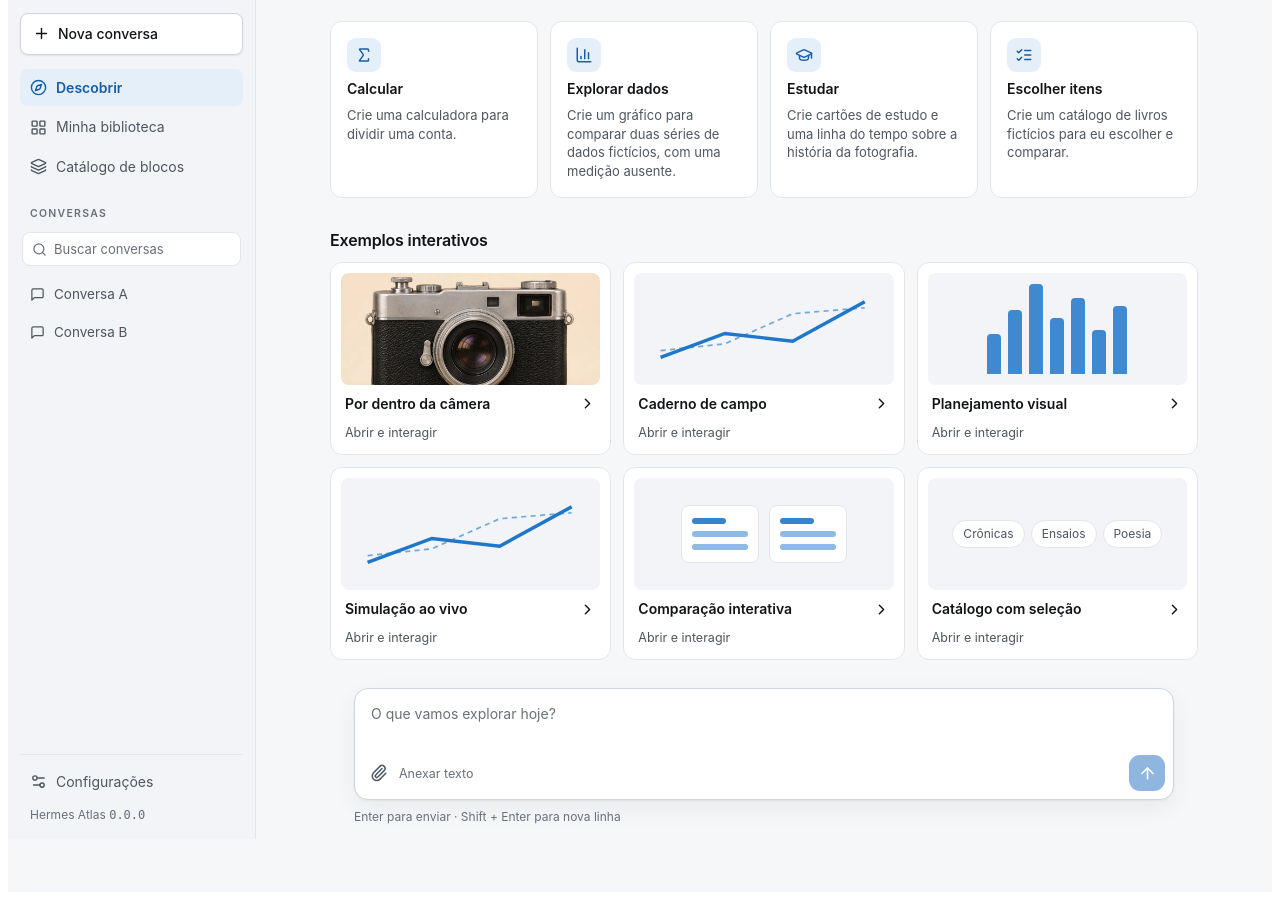
opens an already completed replay with its answer, warning and canvas revision
The image size is (1280, 900).
(page scrolled)
Check: the button "Conversa A" is shown, box top-left (20, 276), bottom-right (243, 313)
Type "retomar" into the text box named "Mensagem para o Hermes" at (764, 720), box top-left (355, 689), bottom-right (1173, 751)
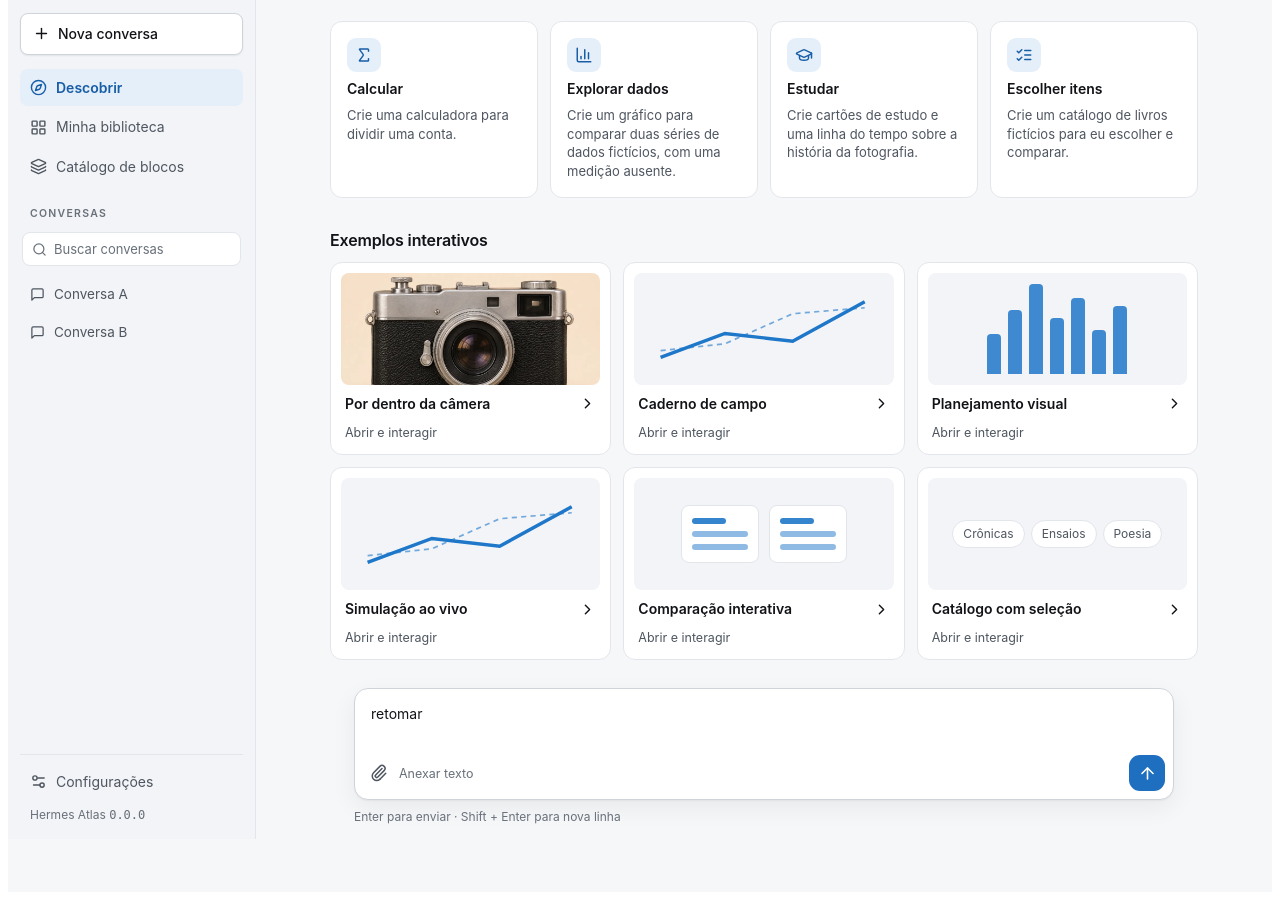
Click the button named "Enviar mensagem" at (1147, 773), box top-left (1129, 755), bottom-right (1165, 791)
(page scrolled)
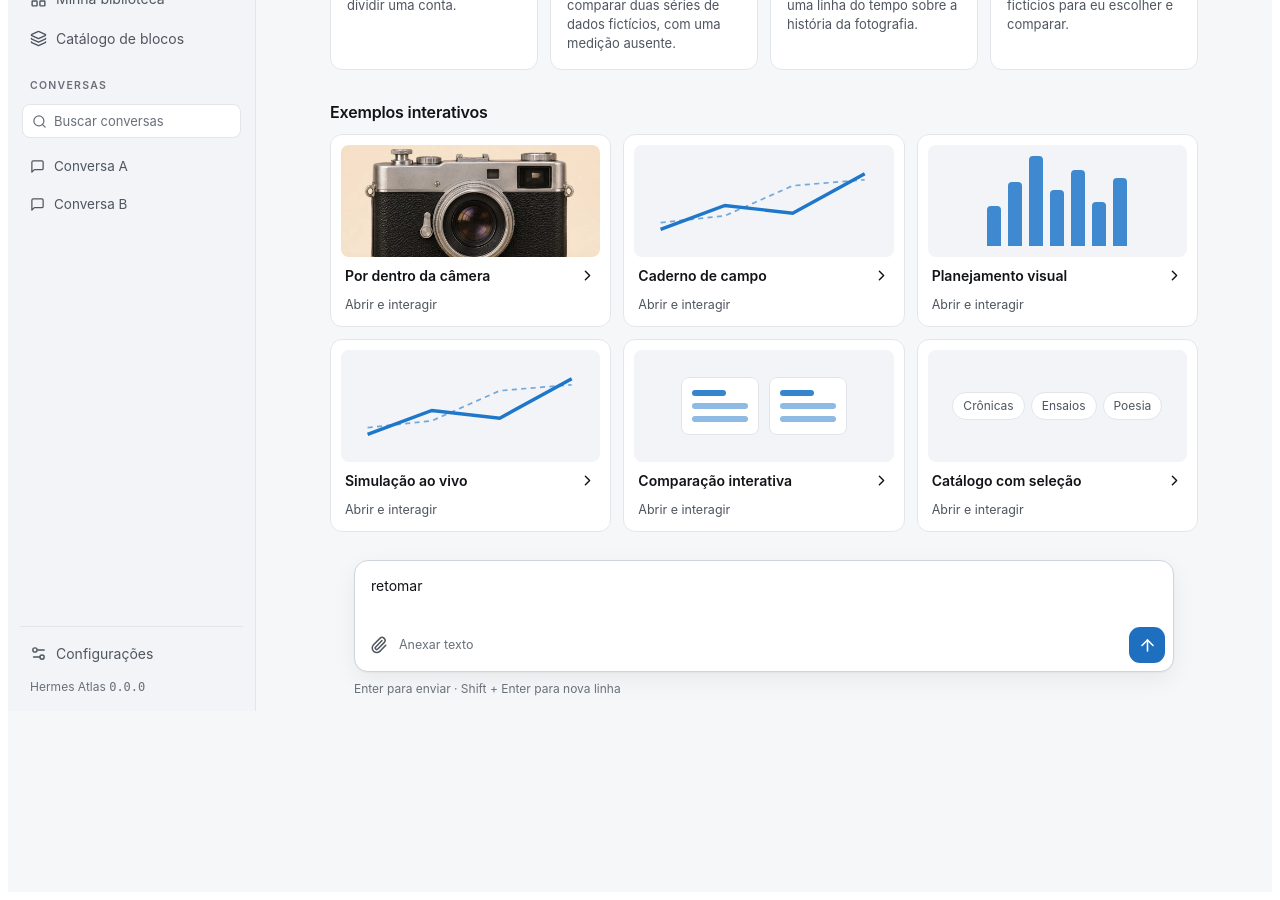
Click the button named "Enviar mensagem" at (1147, 645), box top-left (1129, 627), bottom-right (1165, 663)
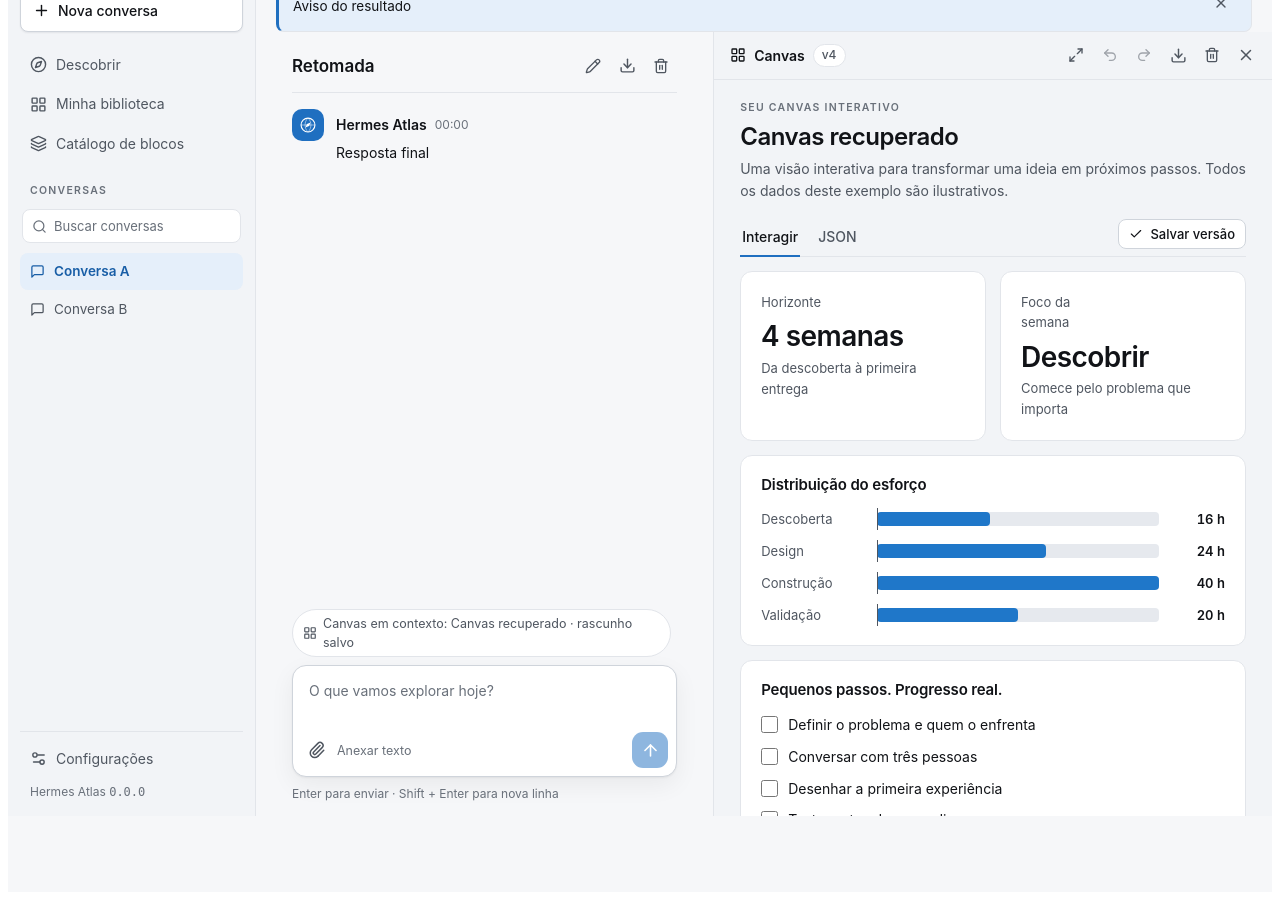
Check: the text "Resposta final" is shown, box top-left (336, 144), bottom-right (429, 161)
Check: the heading "Canvas recuperado" is shown, box top-left (740, 122), bottom-right (958, 151)
Check: the text "v4" is shown, box top-left (813, 44), bottom-right (846, 67)
